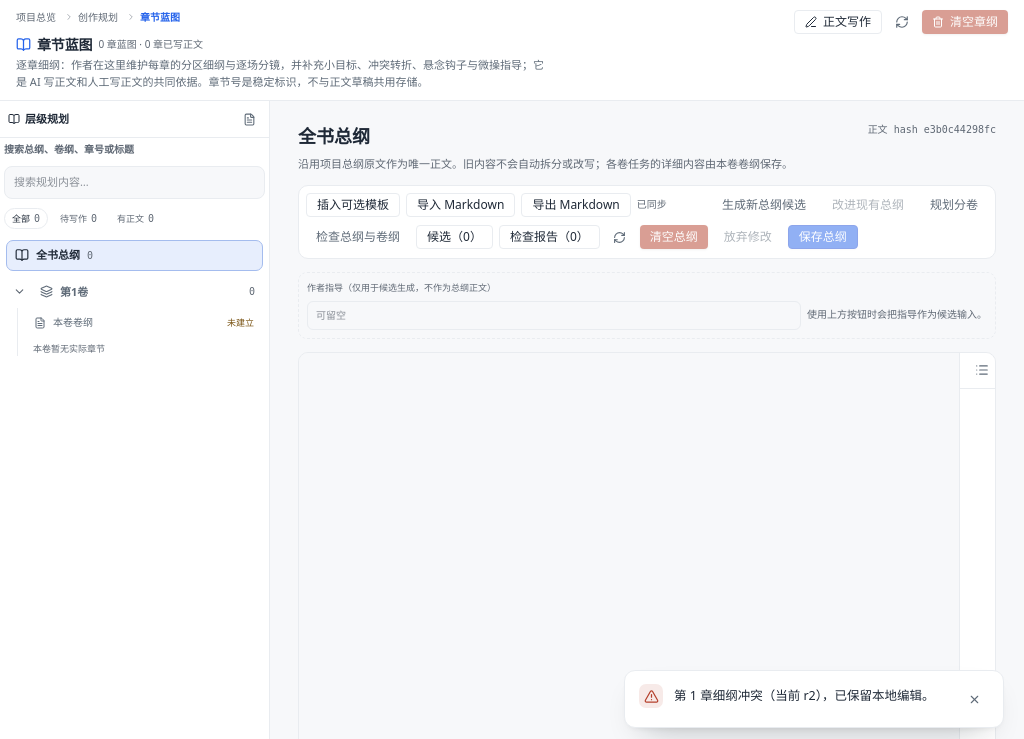
Scenario: ChapterCardEditor writing entry › creates a manual blueprint at the authoritative next chapter instead of the blueprint maximum
This screenshot has width=1024, height=739.
Click the button with test id "blueprint-planning-select-volume-volume-1" at (136, 292), box [31,276,242,307]
(page scrolled)
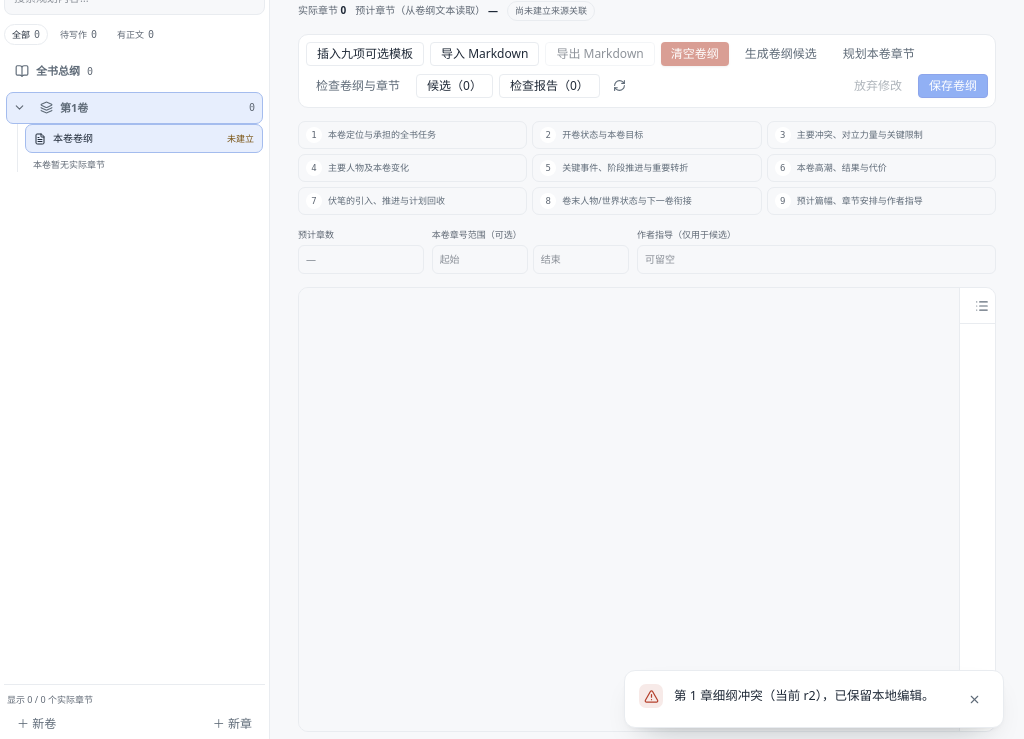
Check: the element with class "blueprint-planning-tree__volume-row" has class "is-selected", box [6,92,263,124]
Click the button with test id "blueprint-planning-add-chapter" at (232, 724), box [203,712,262,736]
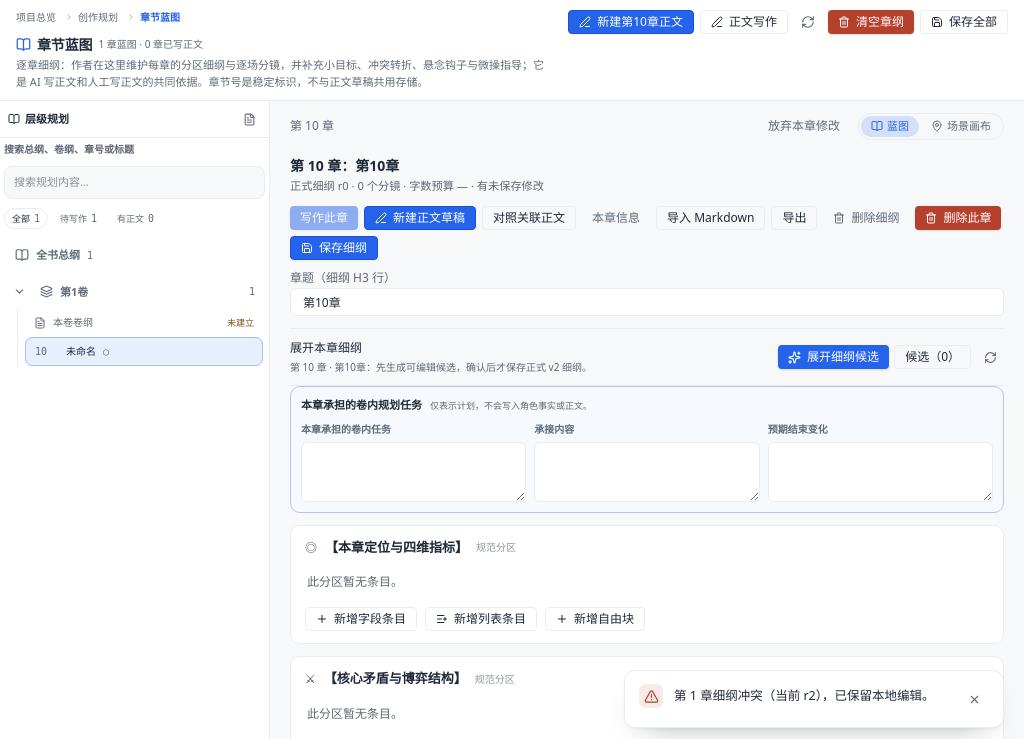
Check: the button with test id "blueprint-planning-select-chapter-10" is shown, box [25,337,263,366]
